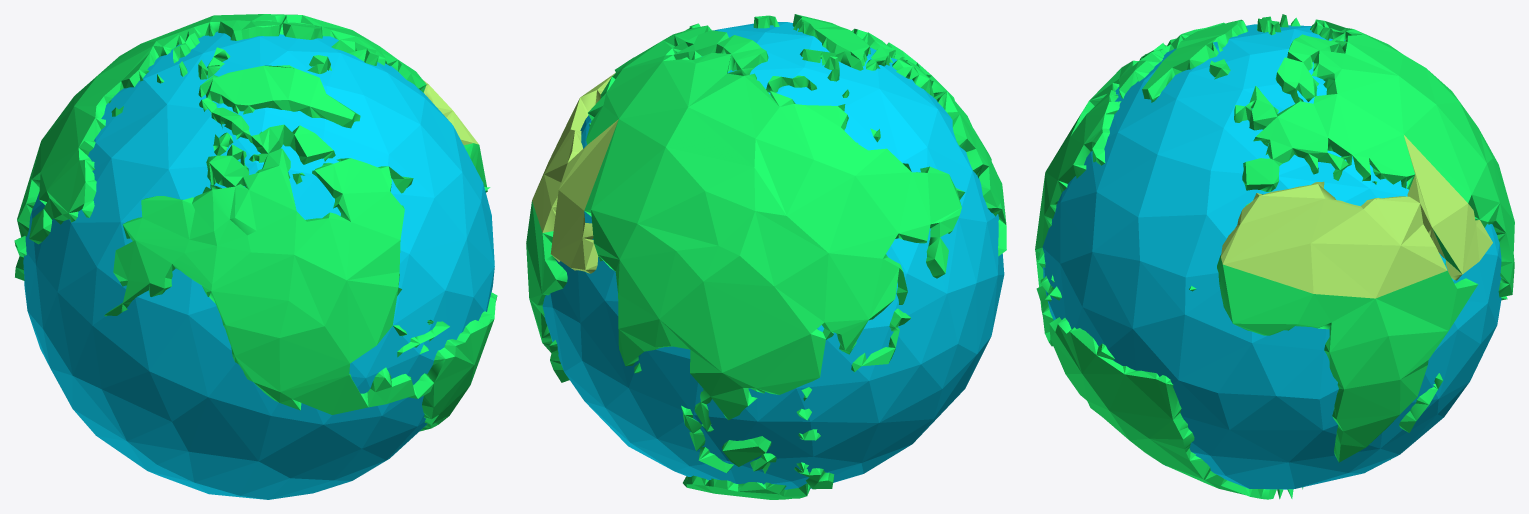
Rendered from lowpoly_earth-africa.fbx.
3 views of the same model, side by side, from view 1: azimuth 30°, elevation 25°; view 2: azimuth 150°, elevation 25°; view 3: azimuth 270°, elevation 25° (orthographic).
Visible parts, largest first — view 1: low_poly_earth; view 2: low_poly_earth; view 3: low_poly_earth.
Part boxes in pixels (left/top/right/bottom): low_poly_earth: left=14, top=14, right=497, bottom=499; low_poly_earth: left=526, top=14, right=1006, bottom=499; low_poly_earth: left=1035, top=14, right=1514, bottom=499.
Bounding box in the file's own units: 195 × 201 × 199.
